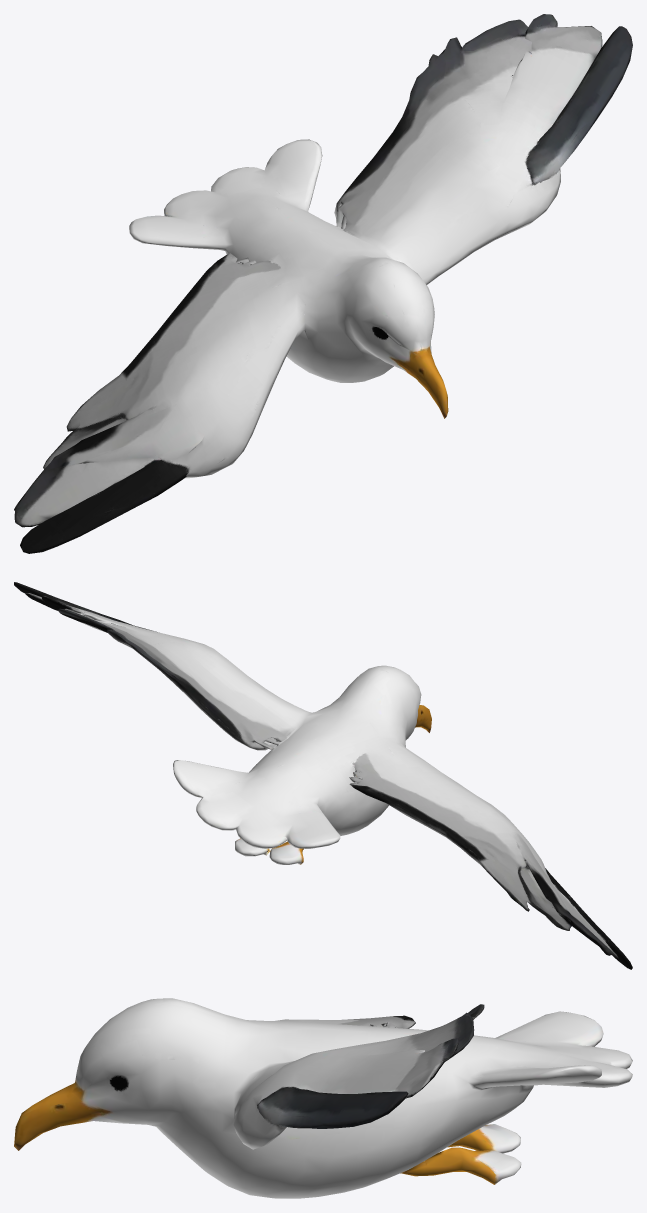
The model's file is gull-trellis2-1024-cascade.glb.
The picture shows the model from 3 angles, top to bottom: view 1: azimuth 30°, elevation 25°; view 2: azimuth 150°, elevation 25°; view 3: azimuth 270°, elevation 25°; orthographic projection. The views are drawn at different scales.
Parts seen in each view (by area): view 1: world; view 2: world; view 3: world.
Part boxes in pixels (x1=…): world: x1=14, y1=14, x2=632, y2=553; world: x1=14, y1=582, x2=632, y2=969; world: x1=14, y1=998, x2=632, y2=1198.
Bounding box in the file's own units: 0.9992 × 0.4909 × 0.6262.
Materials: 1 (1 with a texture image).
